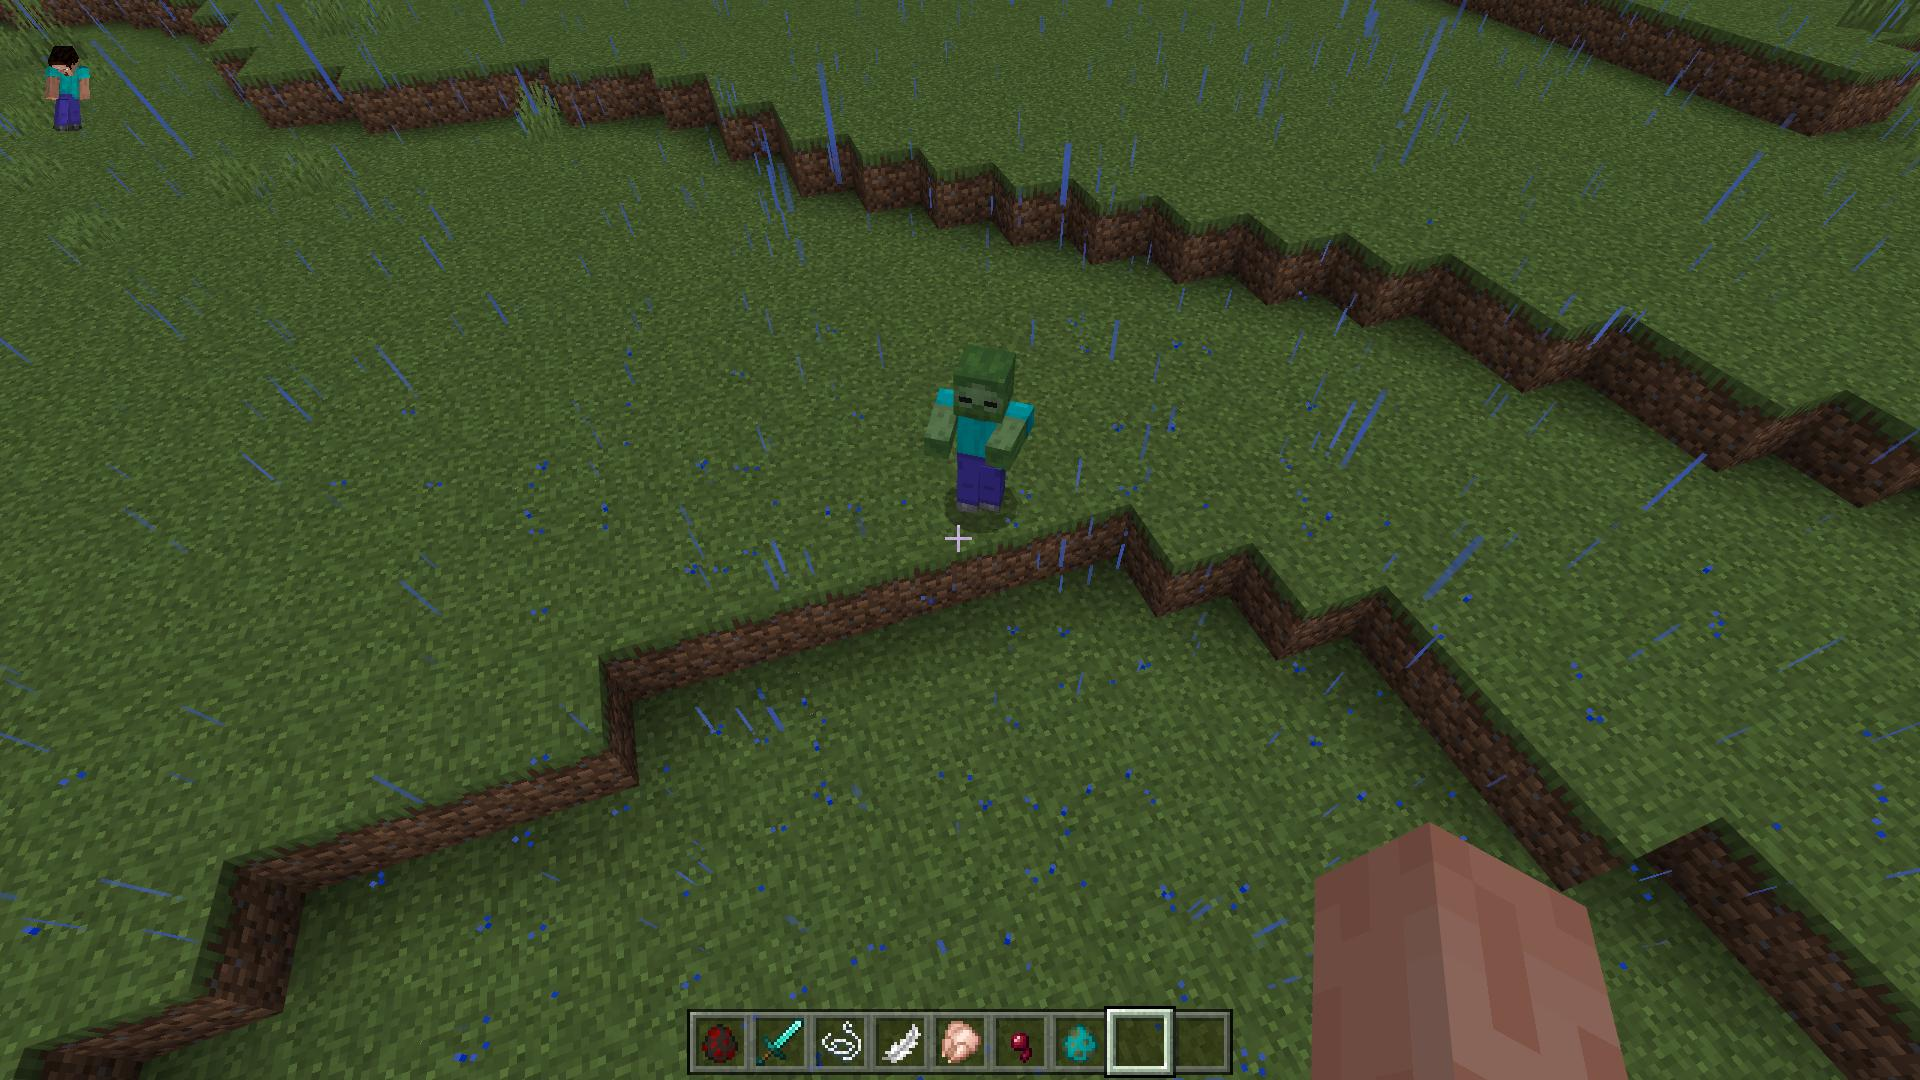zombie: (923, 340, 1043, 518)
